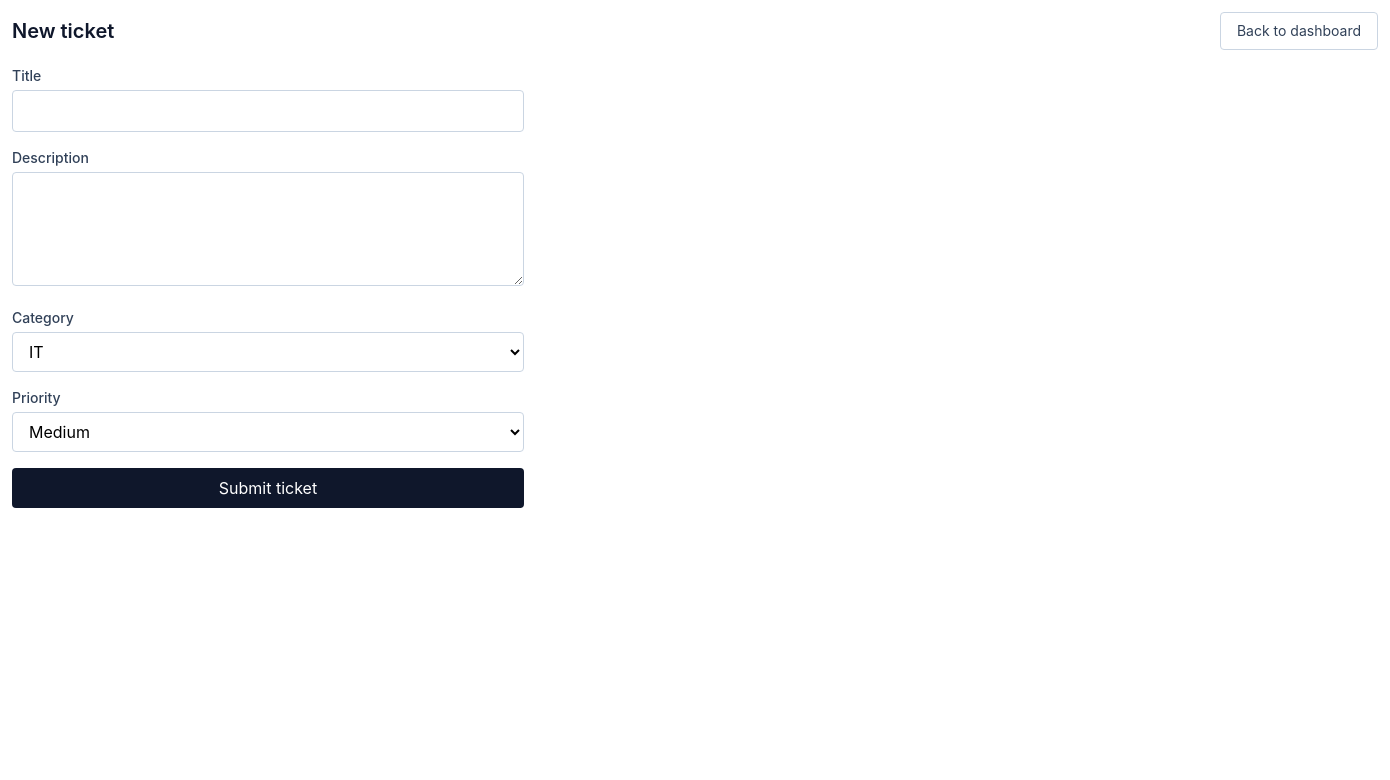
it: NewTicketPage › shows a generic error message when creation fails
Step 1. Type "X" into the field labelled "Title" → (268, 111), box [12,90,524,132]
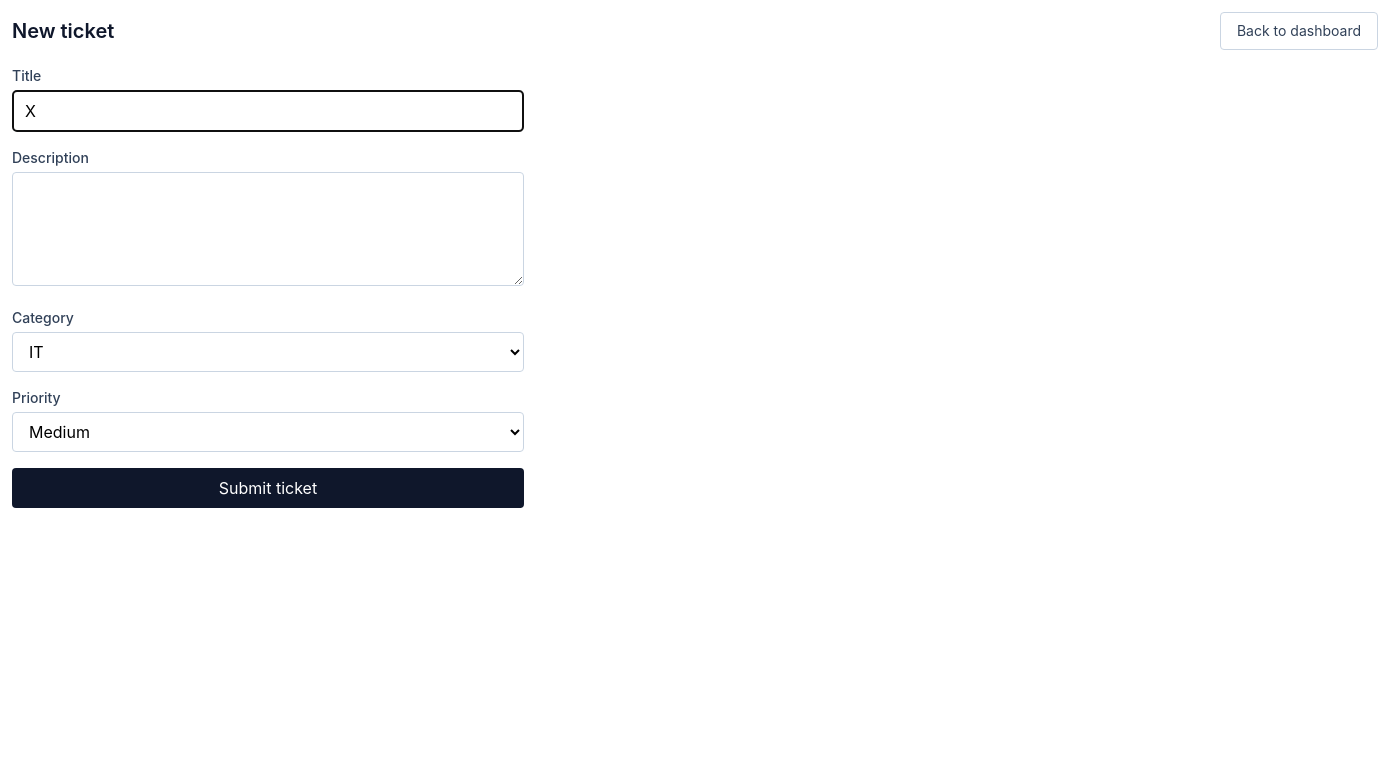
Step 2. Type "Y" into the text box labelled "Description" → (268, 229), box [12,172,524,286]
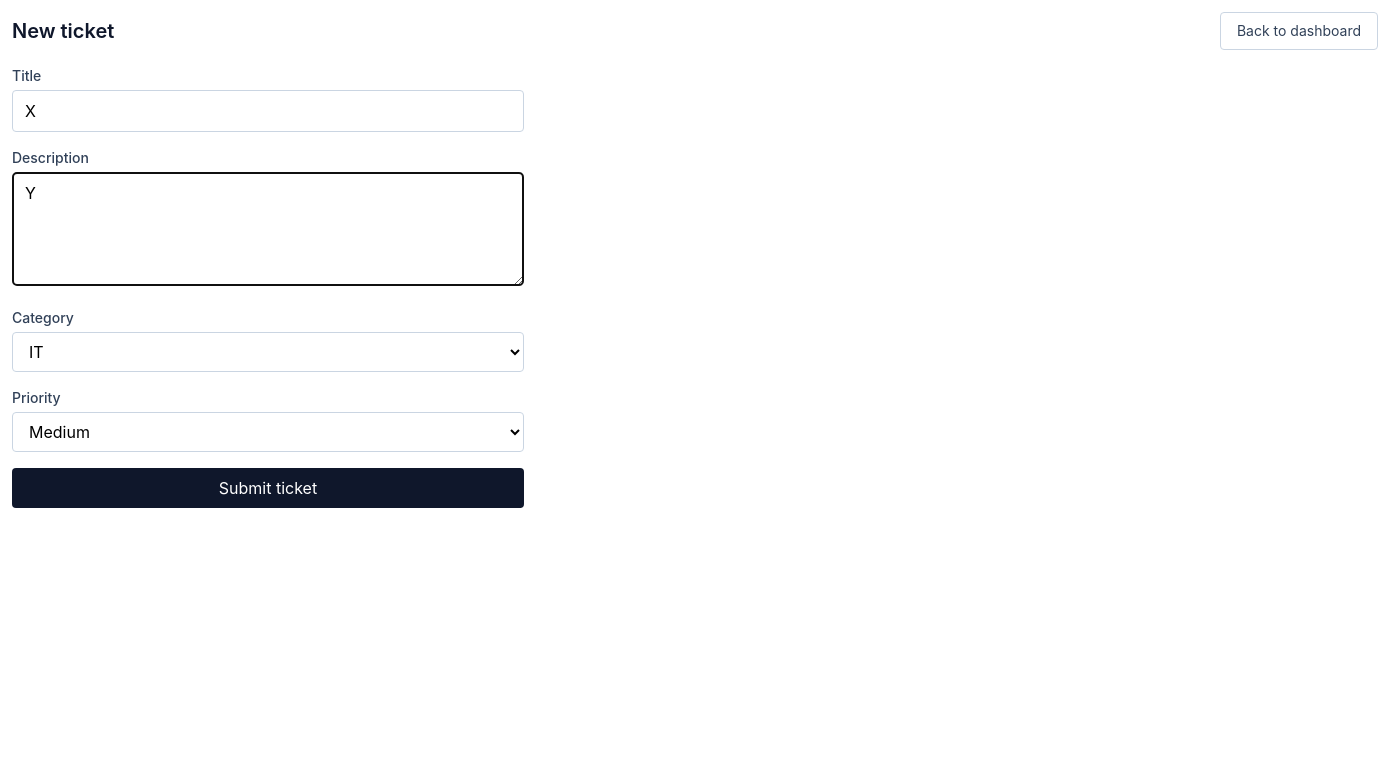
Step 3. Click the button "Submit ticket" → click(268, 488), box [12,468,524,508]
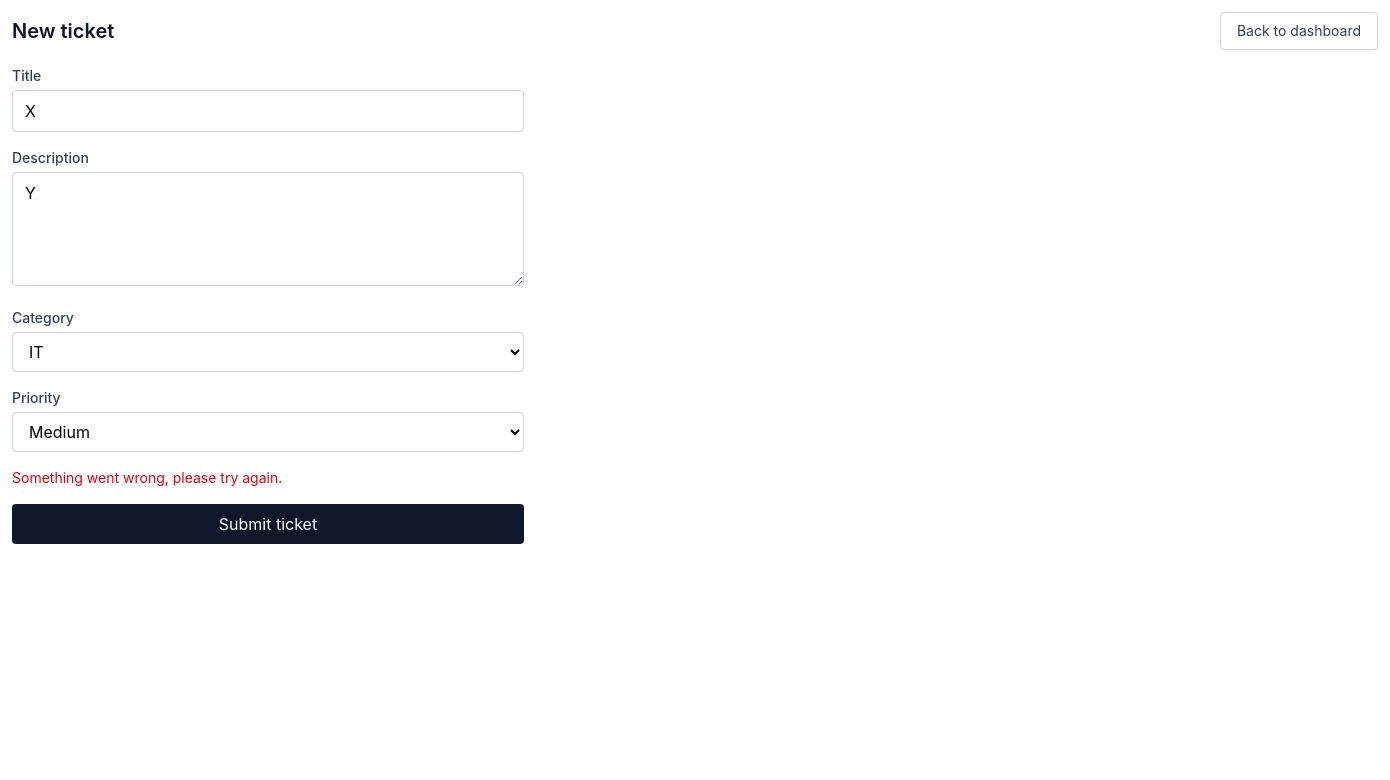
Expected: the text "Something went wrong, please try again." is shown, [12,469,282,486]
